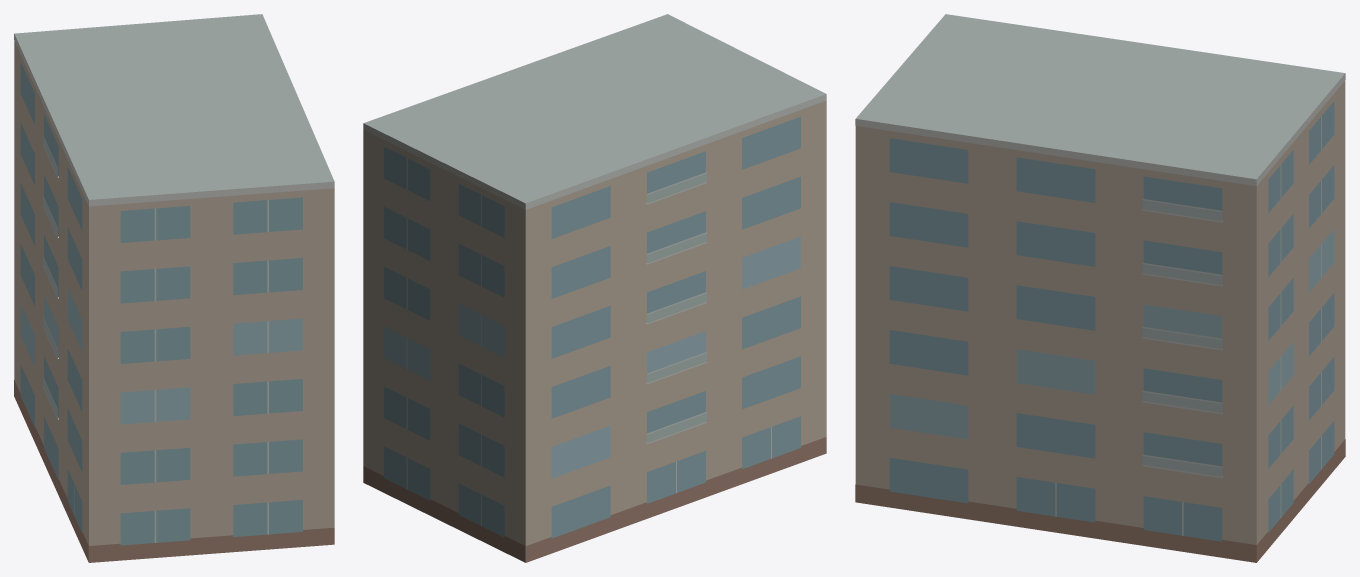
The model's file is survey-upis-32928782.glb.
3 renders of one model, left to right at view 1: azimuth 30°, elevation 25°; view 2: azimuth 150°, elevation 25°; view 3: azimuth 270°, elevation 25°, orthographic. The views are drawn at different scales.
Parts seen in each view (by area): view 1: survey-upis-32928782.tmp; view 2: survey-upis-32928782.tmp; view 3: survey-upis-32928782.tmp.
Boxes of the visible parts, x1,y1,x2,y2 form: survey-upis-32928782.tmp: [14, 14, 334, 562]; survey-upis-32928782.tmp: [363, 14, 826, 562]; survey-upis-32928782.tmp: [855, 14, 1345, 562].
Bounding box in the file's own units: 12.54 × 13.55 × 15.7.
